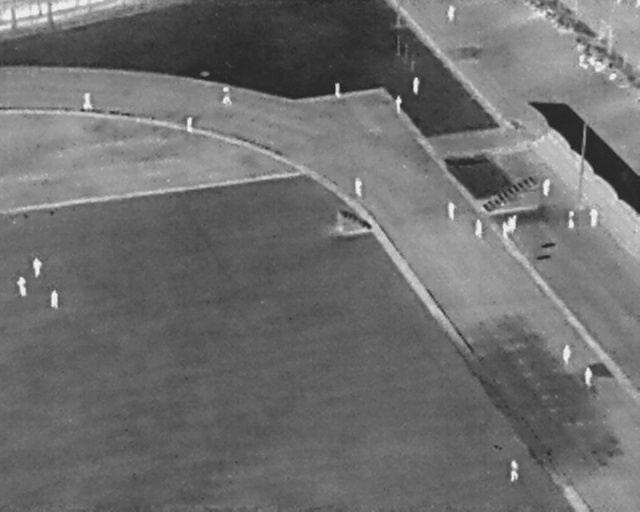DontCare: (571, 38, 626, 85)
Person: (16, 276, 28, 297), (221, 86, 233, 105), (353, 176, 363, 198), (589, 206, 598, 229), (447, 201, 457, 221), (82, 93, 93, 111), (510, 460, 519, 482), (33, 258, 42, 278), (562, 345, 571, 365), (542, 178, 551, 198), (474, 219, 483, 239), (50, 290, 59, 309), (584, 367, 593, 386), (447, 5, 456, 23), (395, 94, 402, 115), (413, 76, 420, 95), (568, 211, 575, 229), (334, 82, 341, 99), (187, 117, 193, 133), (502, 221, 508, 237), (508, 216, 513, 234), (512, 215, 516, 231)
